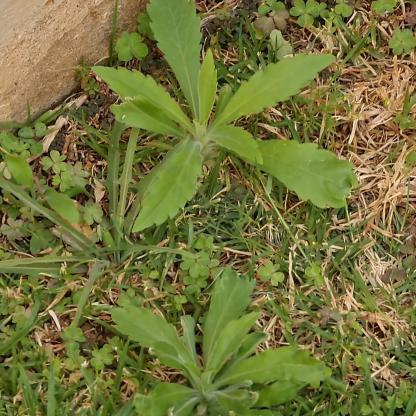Weeds: (93, 0, 358, 231), (108, 262, 334, 415)
